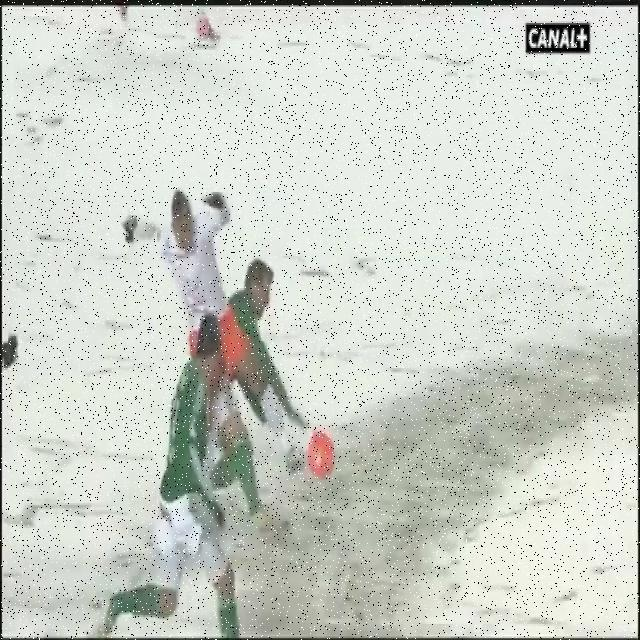ball: (300, 402, 347, 500)
player: (92, 290, 235, 640), (111, 146, 242, 324), (228, 217, 308, 469)
